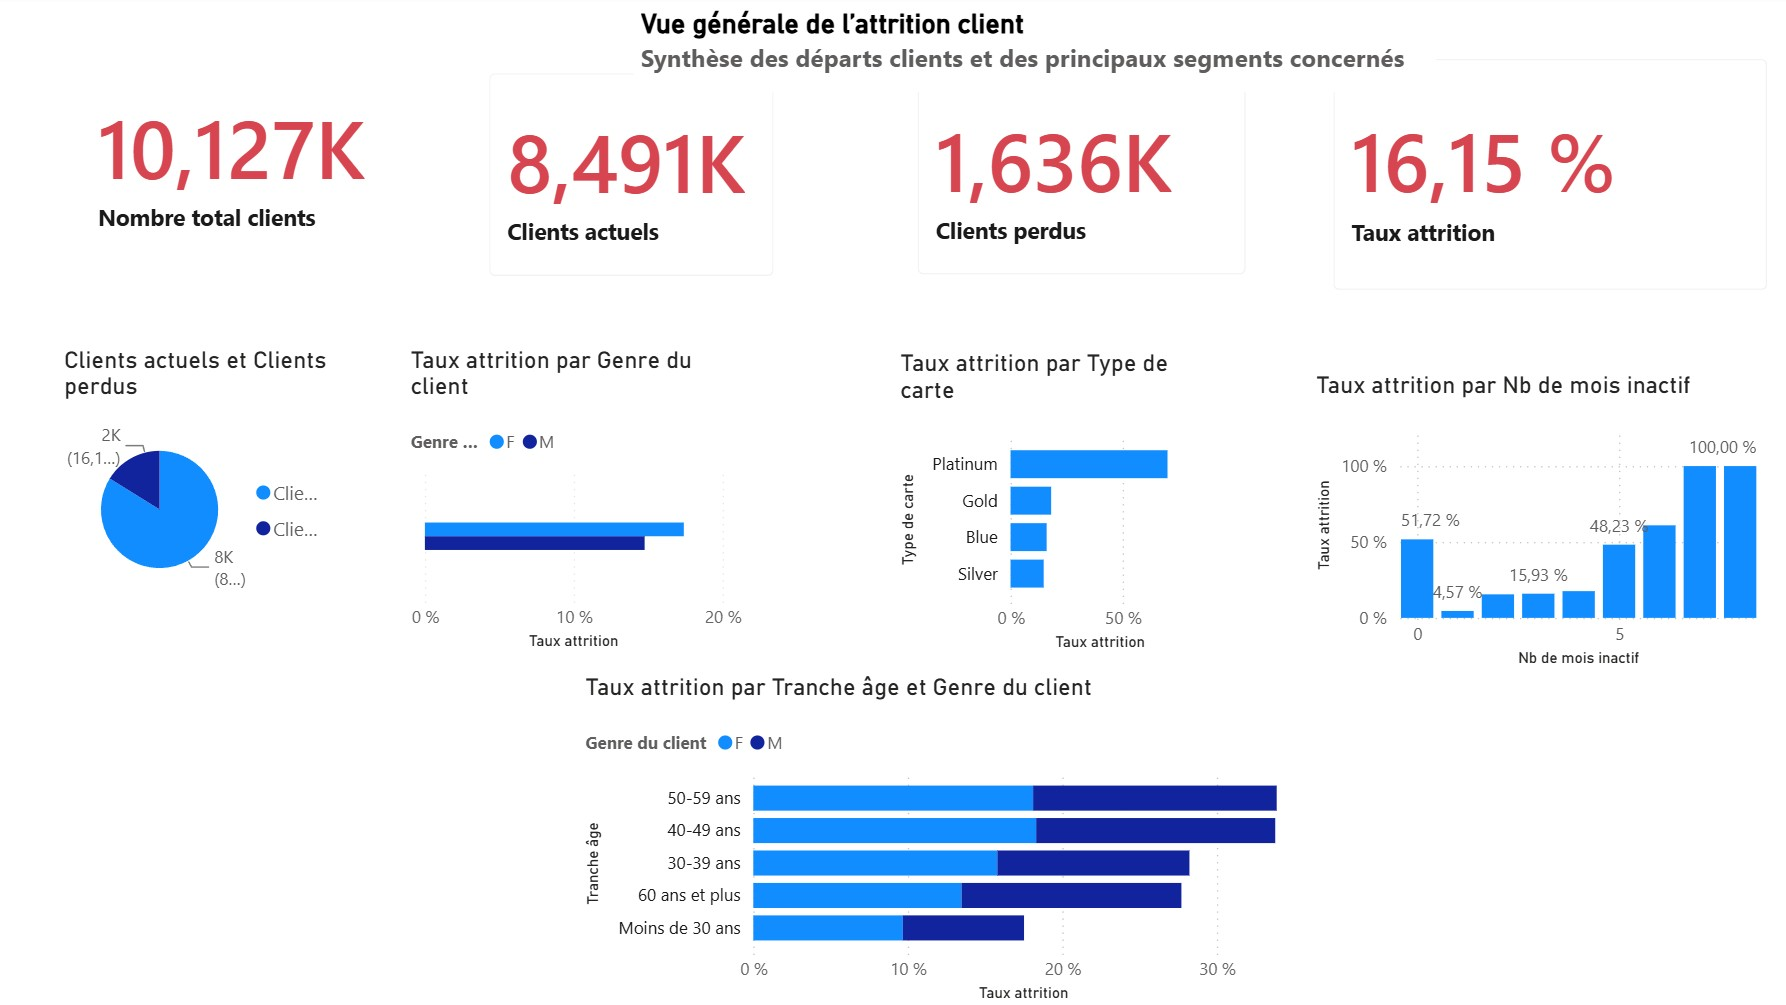

What the dashboard file says about the page in this screenshot:
{"tool":"powerbi","page":{"name":"Vue générale","canvas":[1280,720],"ordinal":0},"visuals":[{"type":"cardVisual","fields":{"Data":["primero_bank_clients_nettoyes.Nombre total clients"]},"box":[46.5,29,290.4,180.1],"z":0},{"type":"cardVisual","fields":{"Data":["primero_bank_clients_nettoyes.Clients actuels"]},"box":[336.9,39.2,236.7,178.6],"z":1000},{"type":"cardVisual","fields":{"Data":["primero_bank_clients_nettoyes.Clients perdus"]},"box":[640.4,37.8,267.2,178.6],"z":2000},{"type":"cardVisual","fields":{"Data":["primero_bank_clients_nettoyes.Taux attrition"]},"box":[936.6,29,342.7,198.9],"z":3000},{"type":"pieChart","fields":{"Y":["primero_bank_clients_nettoyes.Clients actuels","primero_bank_clients_nettoyes.Clients perdus"]},"box":[46.5,249.8,203.3,184.4],"z":4000},{"type":"clusteredBarChart","fields":{"Y":["primero_bank_clients_nettoyes.Taux attrition"],"Series":["primero_bank_clients_nettoyes.Genre du client"]},"box":[293.3,249.8,245.4,220.7],"z":5000},{"type":"barChart","fields":{"Y":["primero_bank_clients_nettoyes.Taux attrition"],"Category":["primero_bank_clients_nettoyes.Type de carte"]},"box":[640.4,251.2,229.4,219.3],"z":6000},{"type":"columnChart","fields":{"Category":["primero_bank_clients_nettoyes.Nb de mois inactif"],"Y":["primero_bank_clients_nettoyes.Taux attrition"]},"box":[936.6,267.2,322.4,214.9],"z":7000},{"type":"barChart","fields":{"Y":["primero_bank_clients_nettoyes.Taux attrition"],"Category":["primero_bank_clients_nettoyes.Tranche âge"],"Series":["primero_bank_clients_nettoyes.Genre du client"]},"box":[416.8,482.1,527.1,238.1],"z":8000},{"type":"textbox","title":"Vue générale de l’attrition client","box":[456,10.2,569.2,59.5],"z":9000}]}

Visuals, with their boxes in screenshot pixels (x1, y1, x2, y2), scaled from the page's 1280x720 canvas onto the 1786x1005 screenshot:
cardVisual - primero_bank_clients_nettoyes.Nombre total clients: <bbox>65, 40, 470, 292</bbox>
cardVisual - primero_bank_clients_nettoyes.Clients actuels: <bbox>470, 55, 800, 304</bbox>
cardVisual - primero_bank_clients_nettoyes.Clients perdus: <bbox>894, 53, 1266, 302</bbox>
cardVisual - primero_bank_clients_nettoyes.Taux attrition: <bbox>1307, 40, 1785, 318</bbox>
pieChart - primero_bank_clients_nettoyes.Clients actuels x primero_bank_clients_nettoyes.Clients perdus: <bbox>65, 349, 349, 606</bbox>
clusteredBarChart - primero_bank_clients_nettoyes.Taux attrition x primero_bank_clients_nettoyes.Genre du client: <bbox>409, 349, 752, 657</bbox>
barChart - primero_bank_clients_nettoyes.Taux attrition x primero_bank_clients_nettoyes.Type de carte: <bbox>894, 351, 1214, 657</bbox>
columnChart - primero_bank_clients_nettoyes.Nb de mois inactif x primero_bank_clients_nettoyes.Taux attrition: <bbox>1307, 373, 1757, 673</bbox>
barChart - primero_bank_clients_nettoyes.Taux attrition x primero_bank_clients_nettoyes.Tranche âge: <bbox>582, 673, 1317, 1004</bbox>
"Vue générale de l’attrition client" textbox: <bbox>636, 14, 1430, 97</bbox>
